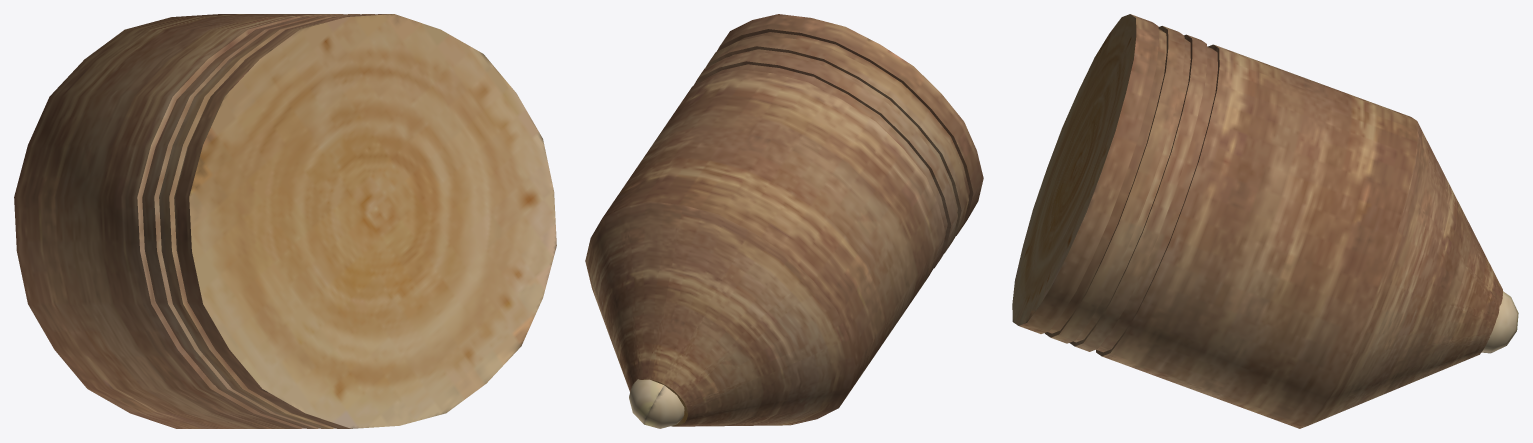
File: SpinningTop.obj
The picture shows the model from 3 angles, left to right: view 1: azimuth 30°, elevation 25°; view 2: azimuth 150°, elevation 25°; view 3: azimuth 270°, elevation 25°; orthographic projection. The views are drawn at different scales.
Parts seen in each view (by area): view 1: Cylinder001; view 2: Cylinder001; view 3: Cylinder001.
Part boxes in pixels (x1,y1,x2,y2): Cylinder001: (14,14,556,428); Cylinder001: (585,14,983,428); Cylinder001: (1012,14,1518,428).
Size of the model in its own units: 1.07 by 1.36 by 1.64.
